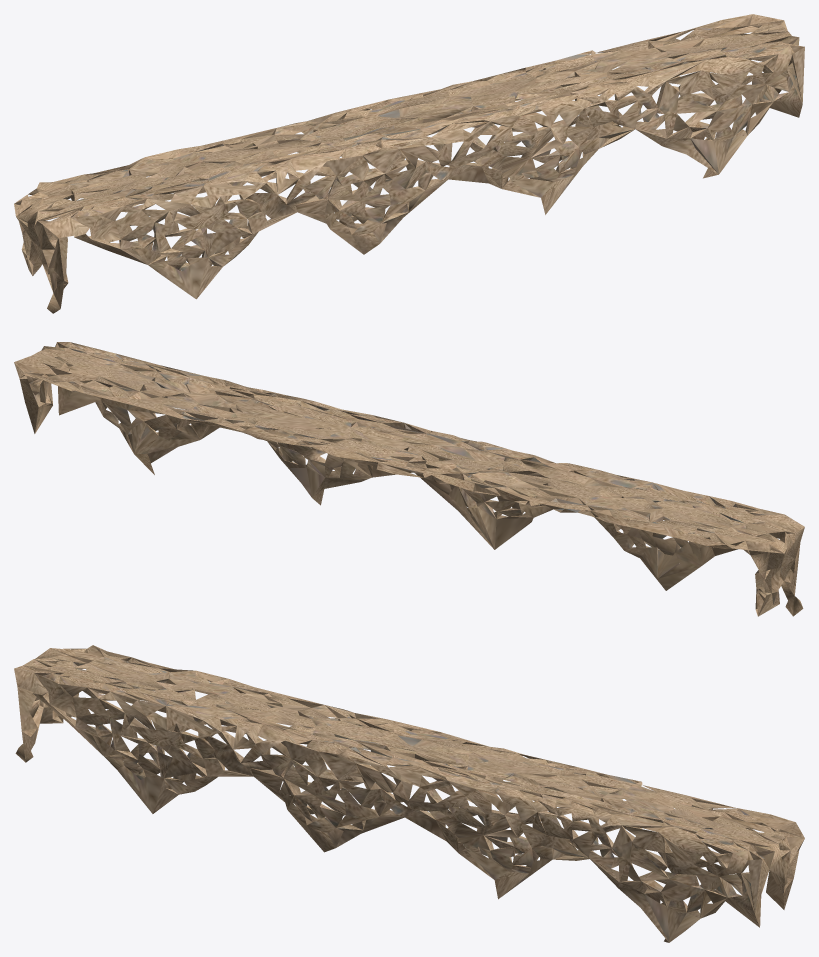
File: p_mantel_lace_l.glb
The picture shows the model from 3 angles, top to bottom: view 1: azimuth 30°, elevation 25°; view 2: azimuth 150°, elevation 25°; view 3: azimuth 330°, elevation 25°; orthographic projection.
Parts seen in each view (by area): view 1: p_mantel_lace; view 2: p_mantel_lace; view 3: p_mantel_lace.
Part boxes in pixels (x1,y1,x2,y2): p_mantel_lace: (14,14,804,313); p_mantel_lace: (14,342,804,616); p_mantel_lace: (14,645,804,942).
Bounding box in the file's own units: 2.09 × 0.3001 × 0.2413.
Materials: 1 (1 with a texture image).
